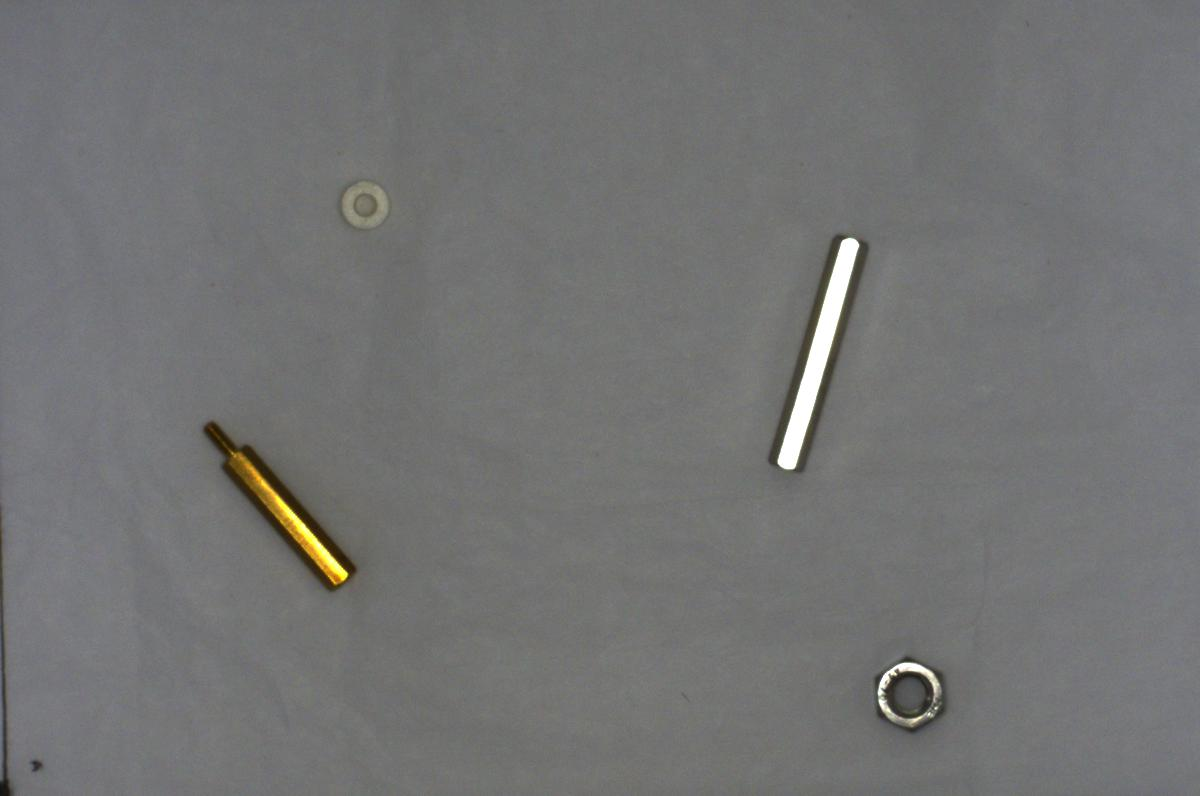Double hexagonal column: (748, 226, 868, 485)
Hexagon nut: (864, 649, 947, 738)
Hexagon pillar: (198, 410, 360, 601)
Plastic cushion pillar: (330, 174, 394, 234)
